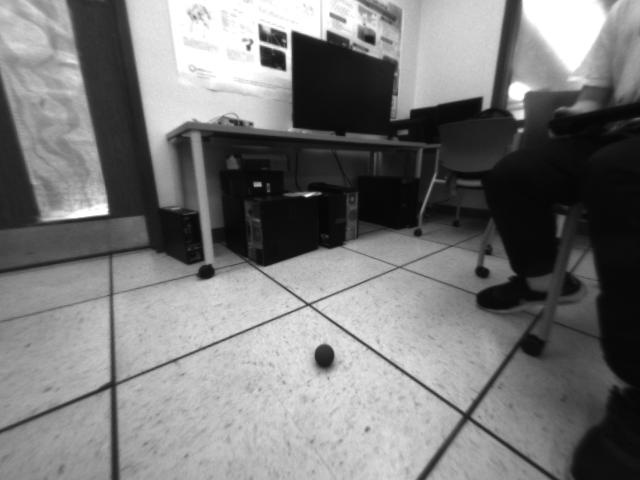dogtoy: (309, 339, 340, 374)
